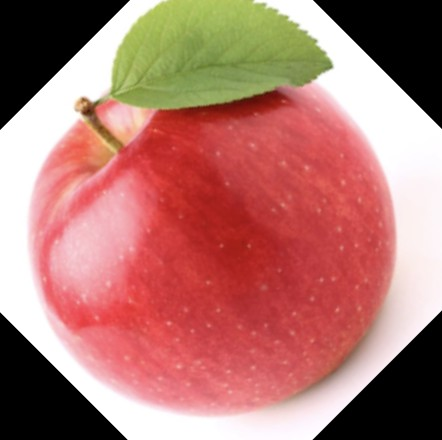fresh_apple: (27, 66, 398, 412)
